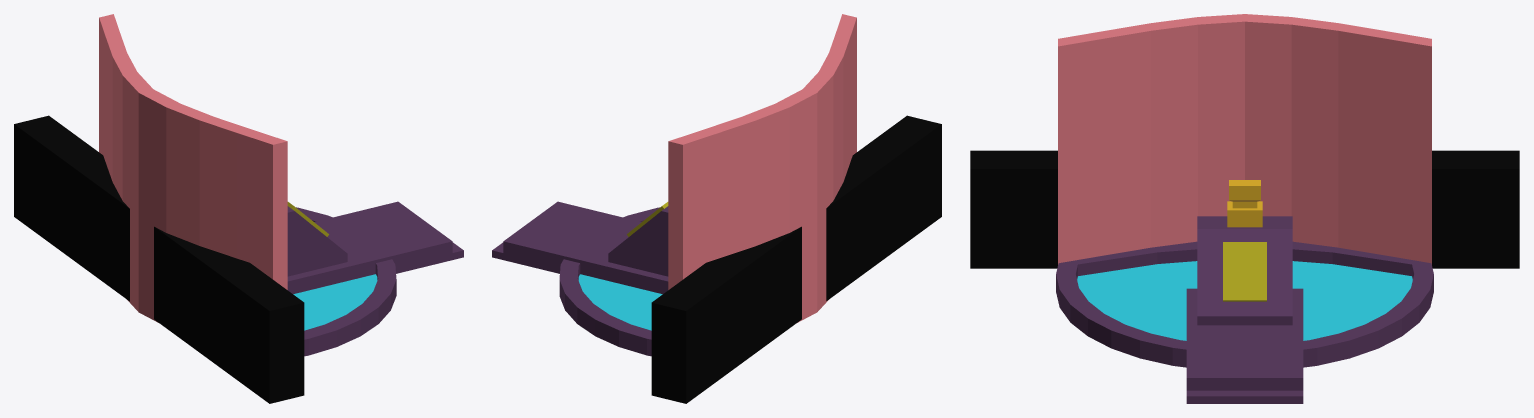
File: fuente_morelos.glb
3 views of the same model, side by side, from view 1: azimuth 30°, elevation 25°; view 2: azimuth 150°, elevation 25°; view 3: azimuth 270°, elevation 25° (orthographic). The views are drawn at different scales.
Parts seen in each view (by area): view 1: Circle.002; view 2: Circle.002; view 3: Circle.002.
Boxes of the visible parts, x1=… form: Circle.002: x1=14, y1=14, x2=463, y2=403; Circle.002: x1=492, y1=14, x2=941, y2=403; Circle.002: x1=970, y1=14, x2=1519, y2=403.
Bounding box in the file's own units: 21.45 × 15.11 × 31.87.
